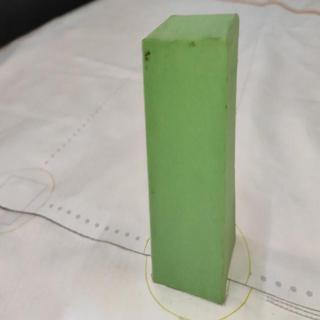greenbox: (142, 13, 244, 298)
